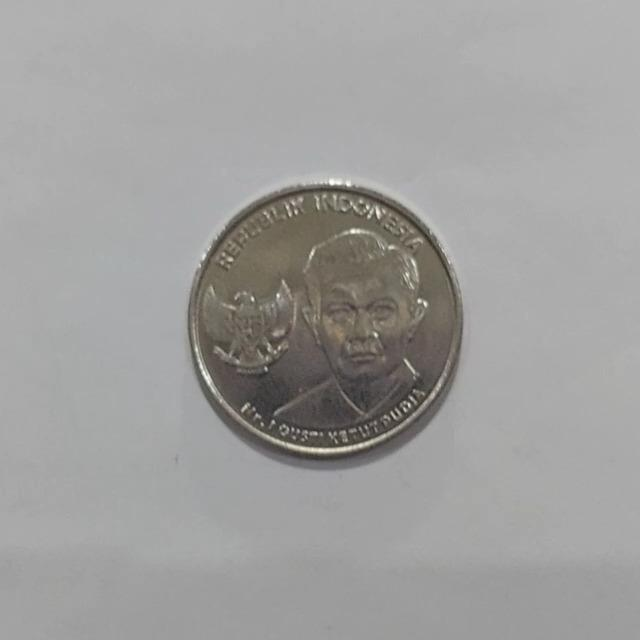Rp100: (187, 178, 464, 460)
